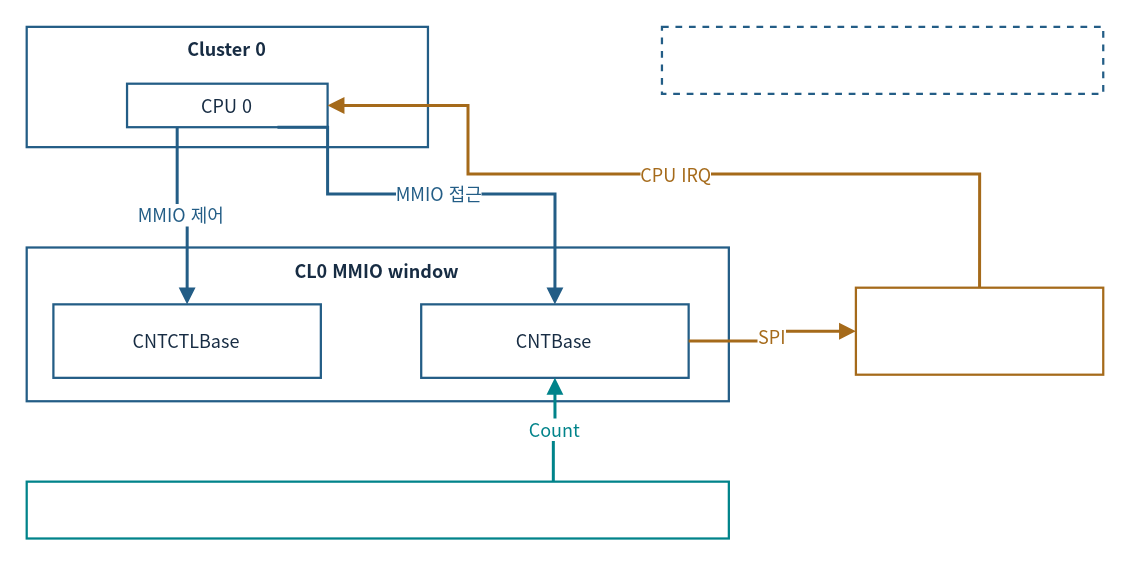
Some shapes in this 1131 by 566 pixel diagram are drawn without their labels. The centre of each missing label's shape, as x and y in pixels:
"Cluster 1 · CPU 0–3" goes at [882,59].
"SI GIC / View1" goes at [979,330].
"System Counter ×1" goes at [377,509].
